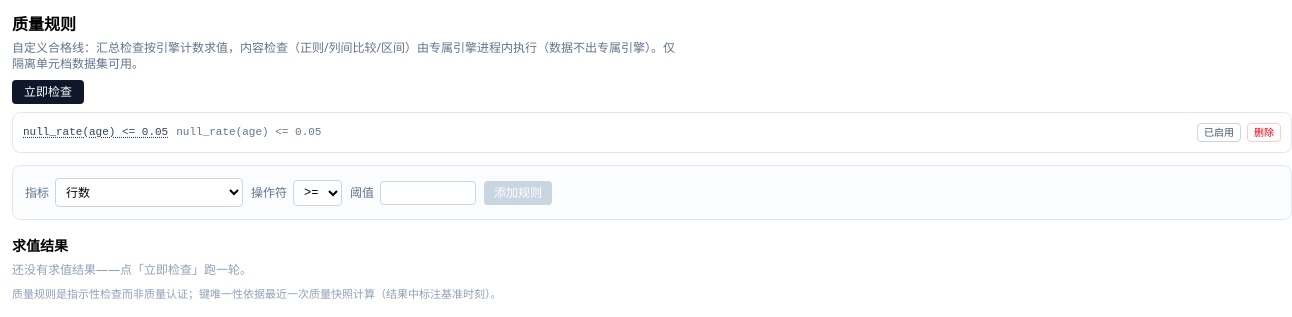
DatasetQualityRulesSection 运行与启停/改名（wire-quality-rules） › 启停开关：点击 → PATCH {enabled:false} → 行态翻转、按钮文案切 disabled
The width and height of the screenshot is (1292, 317).
Expected: the list item with test id "quality-rule-item-r1" is shown, [12,112,1291,153]
Click the button with test id "quality-rule-toggle-r1".
click(1219, 133)  # box [1197,123,1241,142]
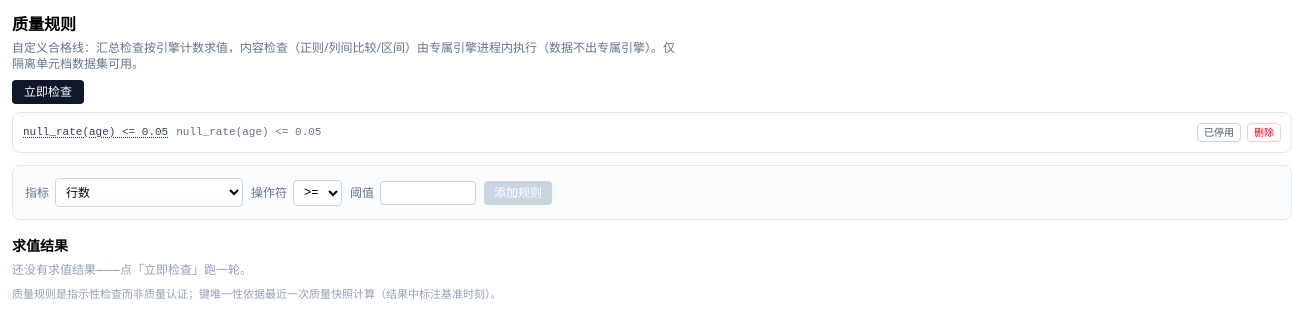
Expected: the button with test id "quality-rule-toggle-r1" reads "已停用", [1197,123,1241,142]
